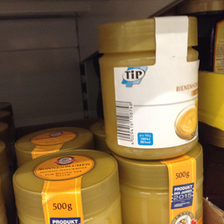honey: (95, 15, 203, 157), (10, 150, 119, 224), (114, 151, 205, 224)
